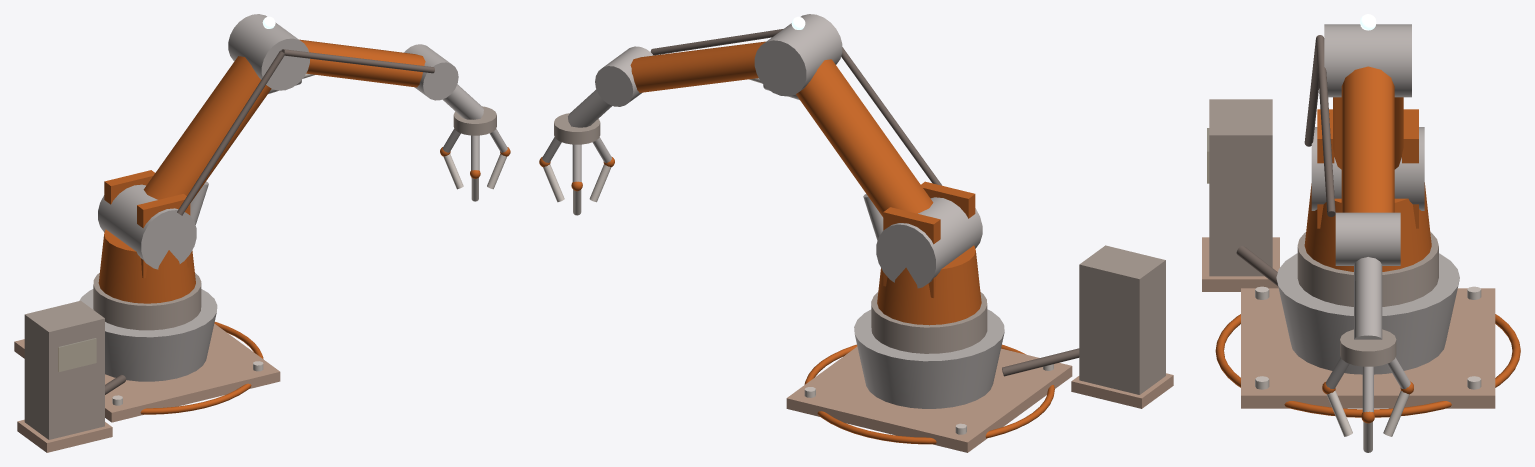
Rendered from V16_loader_arm.glb.
3 views of the same model, side by side, from view 1: azimuth 30°, elevation 25°; view 2: azimuth 150°, elevation 25°; view 3: azimuth 270°, elevation 25° (orthographic). The views are drawn at different scales.
Visible parts, largest first — view 1: pedestal, turret, base_plate, cable_loom, anchor_bolt, cabinet_display; view 2: pedestal, turret, base_plate, cable_loom, anchor_bolt; view 3: pedestal, base_plate, turret, cable_loom, anchor_bolt.
Part boxes in pixels (x1,y1,x2,y2): pedestal: [24, 14, 507, 439]; turret: [98, 39, 510, 414]; base_plate: [14, 323, 280, 452]; cable_loom: [105, 49, 434, 394]; anchor_bolt: [112, 73, 506, 405]; cabinet_display: [58, 338, 96, 371]; pedestal: [542, 14, 1165, 408]; turret: [539, 41, 1054, 444]; base_plate: [786, 346, 1173, 452]; cable_loom: [650, 29, 1079, 376]; anchor_bolt: [543, 78, 1053, 434]; pedestal: [1209, 24, 1459, 412]; base_plate: [1202, 237, 1495, 408]; turret: [1215, 66, 1520, 423]; cable_loom: [1236, 35, 1335, 286]; anchor_bolt: [1255, 286, 1481, 452].
Size of the model in its own units: 5.62 by 3.26 by 2.25.
